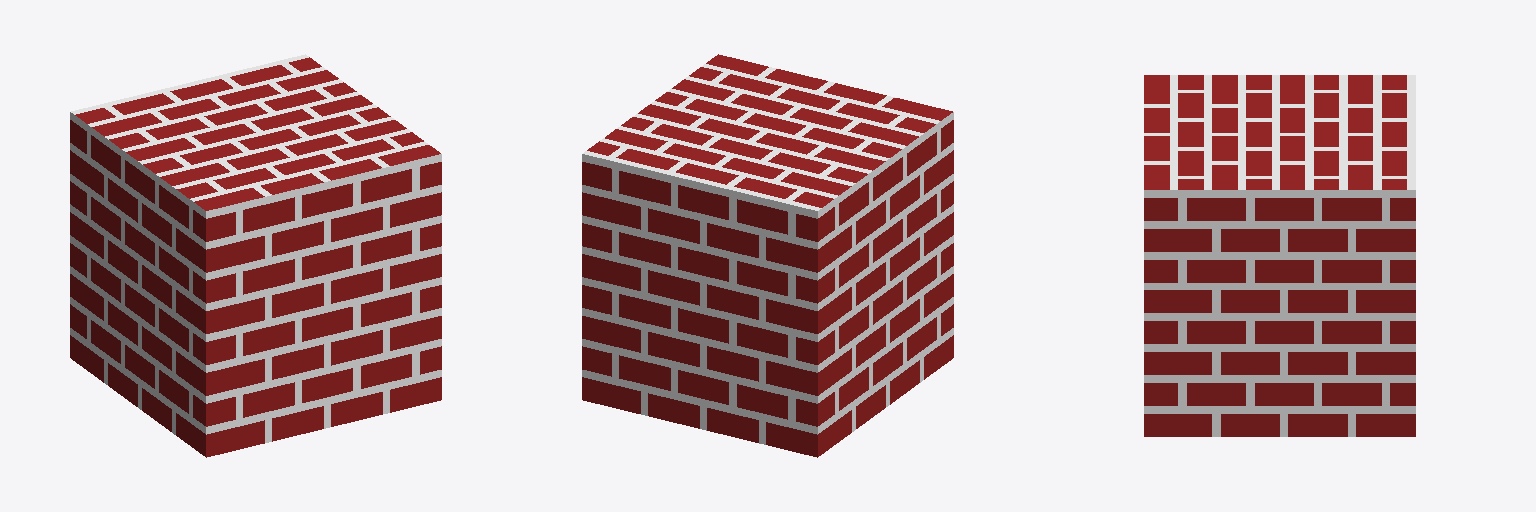
3 views of the same model, side by side, from view 1: azimuth 30°, elevation 25°; view 2: azimuth 150°, elevation 25°; view 3: azimuth 270°, elevation 25° (orthographic).
Parts seen in each view (by area): view 1: Cube; view 2: Cube; view 3: Cube.
Part boxes in pixels (x1,y1,x2,y2): Cube: (70,54,441,457); Cube: (582,54,953,457); Cube: (1144,75,1415,436).
Bounding box in the file's own units: 2 × 2 × 2.
1 materials, 1 textured.